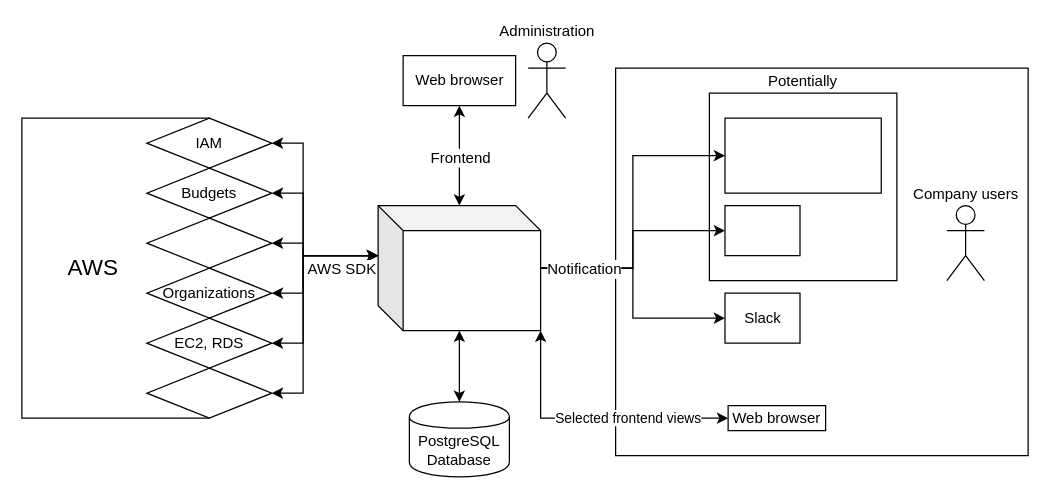
Image size: 1050x499. Some labels were removed from this diagram. Each missing label, with the box of its shape:
Backend server: (377, 204, 541, 331)
CostExplorer: (146, 217, 272, 268)
E-Mail: (724, 204, 800, 256)
Other means of communication: (724, 117, 881, 193)
SNS: (146, 367, 272, 418)
